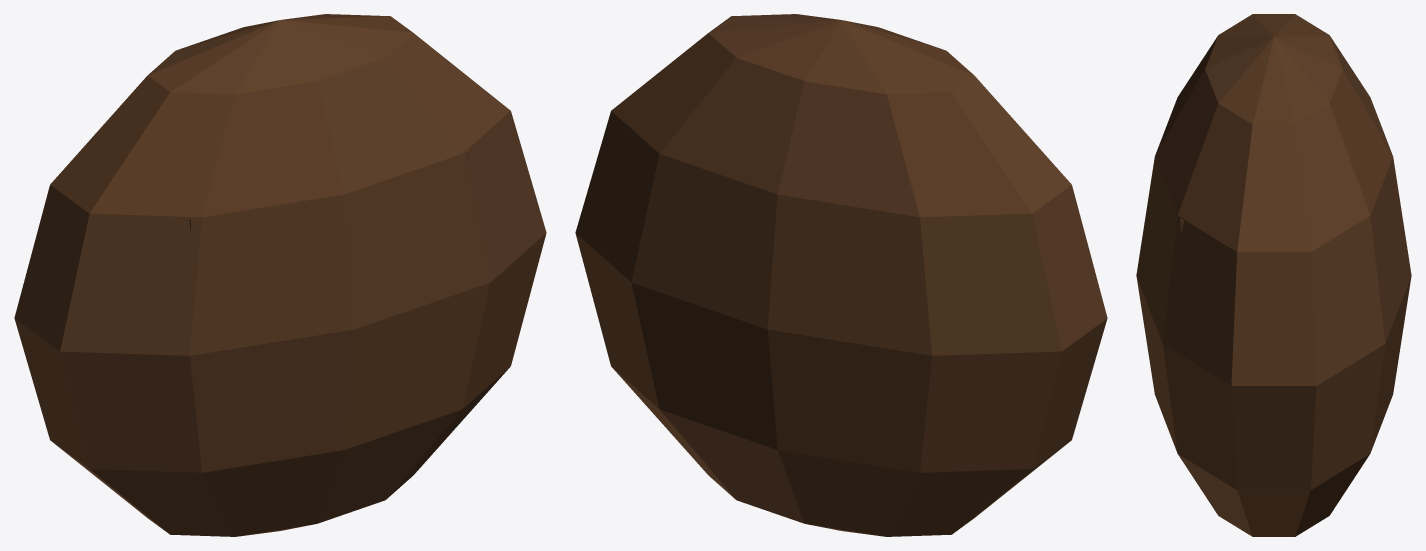
Rendered from beard.glb.
The picture shows the model from 3 angles, left to right: view 1: azimuth 30°, elevation 25°; view 2: azimuth 150°, elevation 25°; view 3: azimuth 270°, elevation 25°; orthographic projection. The views are drawn at different scales.
Visible parts, largest first — view 1: beard; view 2: beard; view 3: beard.
Part boxes in pixels (x1,y1,x2,y2): beard: (14, 14, 546, 536); beard: (575, 14, 1107, 536); beard: (1136, 14, 1411, 536).
Bounding box in the file's own units: 0.1569 × 0.1575 × 0.0825.
